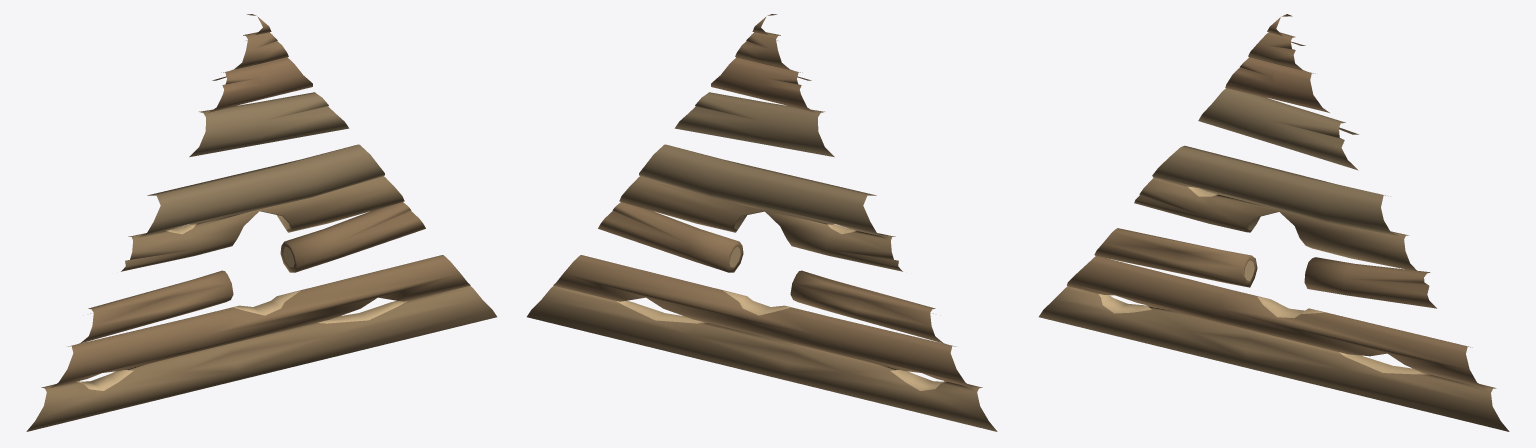
The model's file is rpgpp_av_roof_end_01_6x5_wall_window_03b.gltf.
3 renders of one model, left to right at view 1: azimuth 30°, elevation 25°; view 2: azimuth 150°, elevation 25°; view 3: azimuth 330°, elevation 25°, orthographic.
Parts seen in each view (by area): view 1: rpgpp_av_roof_end_01_6x5_wall_window_03b; view 2: rpgpp_av_roof_end_01_6x5_wall_window_03b; view 3: rpgpp_av_roof_end_01_6x5_wall_window_03b.
Boxes of the visible parts, left/top/right/bottom form: rpgpp_av_roof_end_01_6x5_wall_window_03b: left=26, top=14, right=496, bottom=431; rpgpp_av_roof_end_01_6x5_wall_window_03b: left=527, top=14, right=997, bottom=431; rpgpp_av_roof_end_01_6x5_wall_window_03b: left=1039, top=14, right=1509, bottom=431.
Bounding box in the file's own units: 0.0677 × 0.0486 × 0.00514.
1 material, 1 textured.
